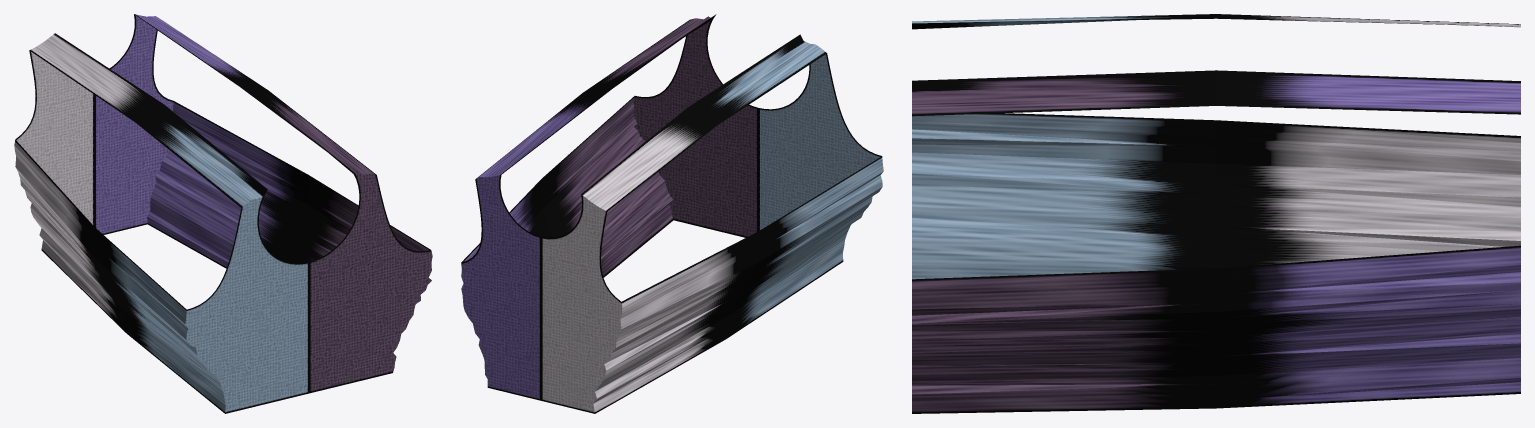
File: tank_knit3_d40_boxmesh.obj
The picture shows the model from 3 angles, left to right: view 1: azimuth 30°, elevation 25°; view 2: azimuth 150°, elevation 25°; view 3: azimuth 270°, elevation 25°; orthographic projection. The views are drawn at different scales.
Bounding box in the file's own units: 36.63 × 31.16 × 55.
1 material, 1 textured.
